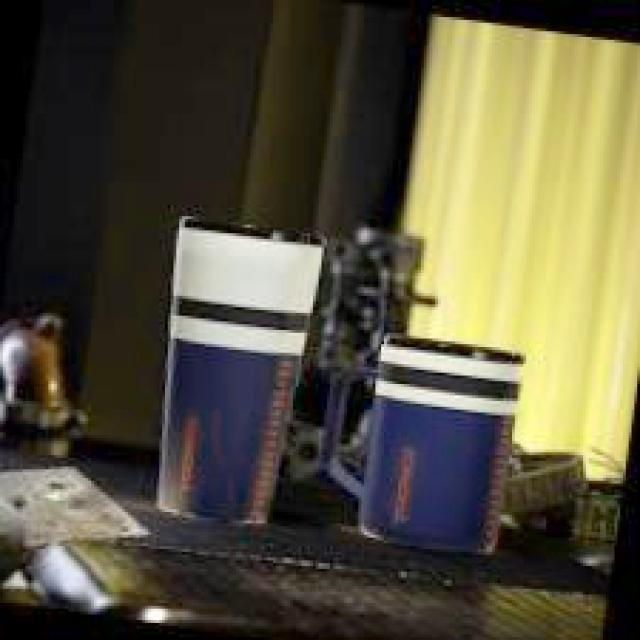bottle: (125, 201, 333, 539), (337, 320, 536, 576)
